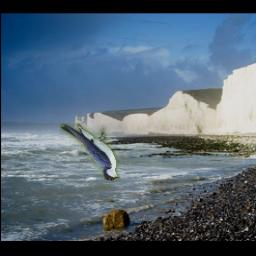Swallow: (60, 124, 120, 181)
